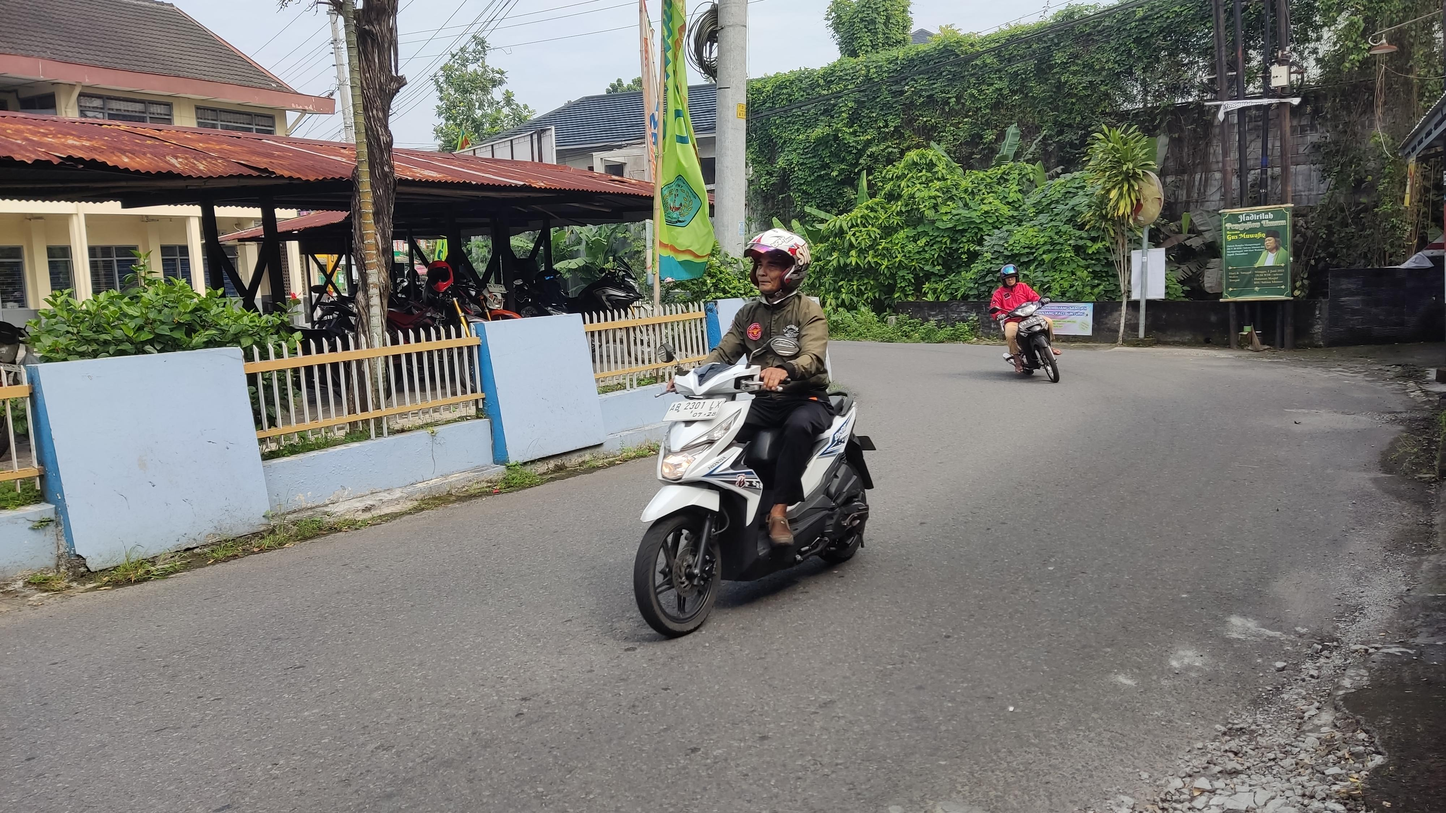helm: (743, 223, 818, 307), (992, 258, 1025, 289)
riding: (624, 219, 892, 667), (986, 261, 1078, 390)
